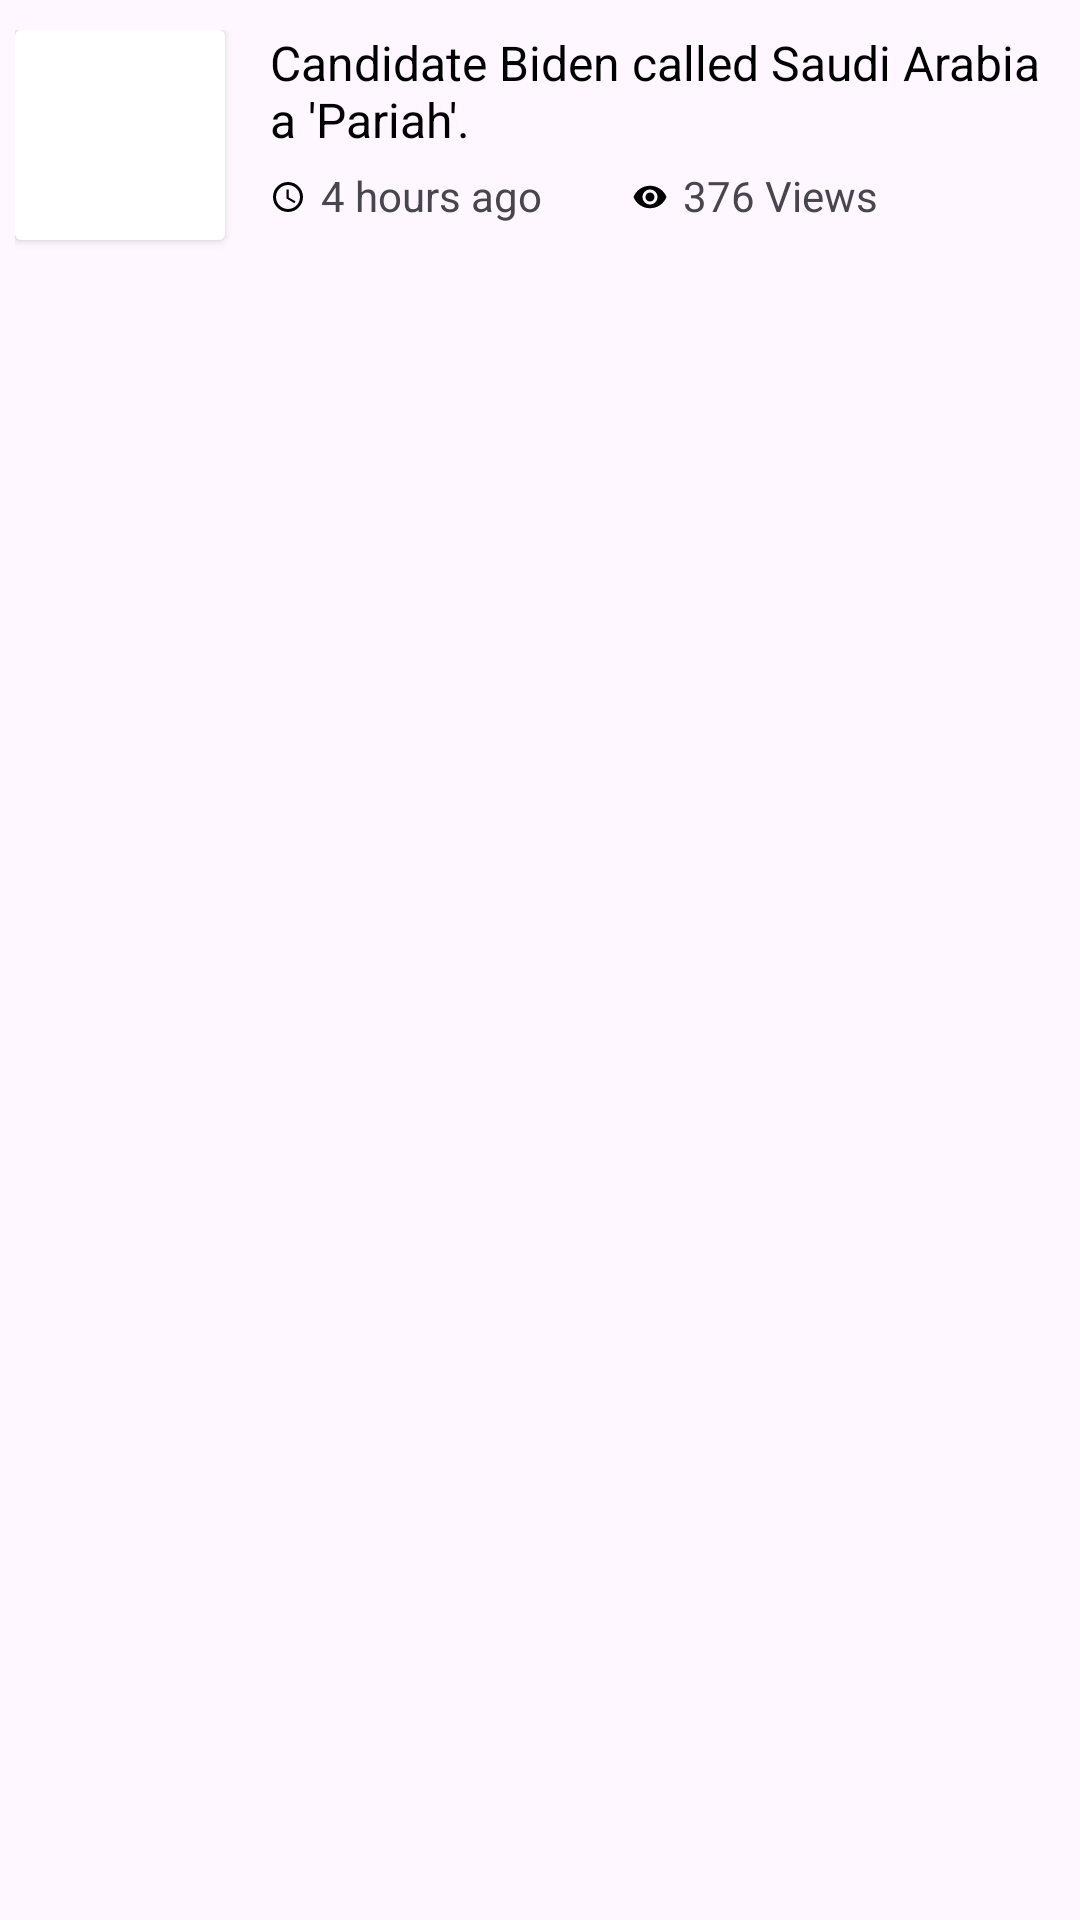

Named icons in this screenshot (1080px x 1920px) and their centers, [x,y]:
access time: [288,197]
